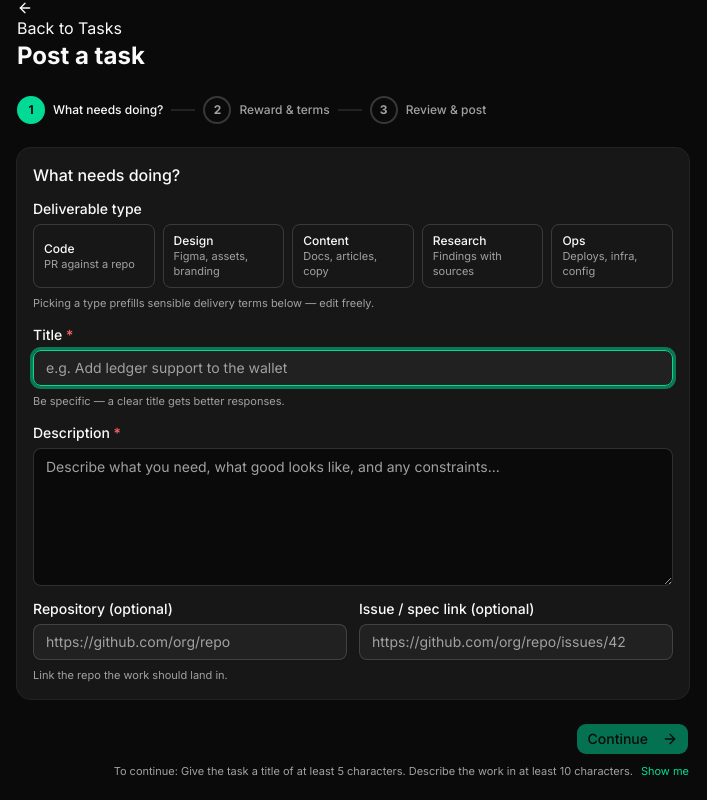
Test: /tasks/create — a disabled Continue says why › step 2: a reward BELOW the escrow minimum (0.5) keeps Continue disabled and says the minimum
Type "A real task title" into the field with placeholder "e.g. Add ledger support to the wallet" at (353, 368), box [33, 350, 673, 386]
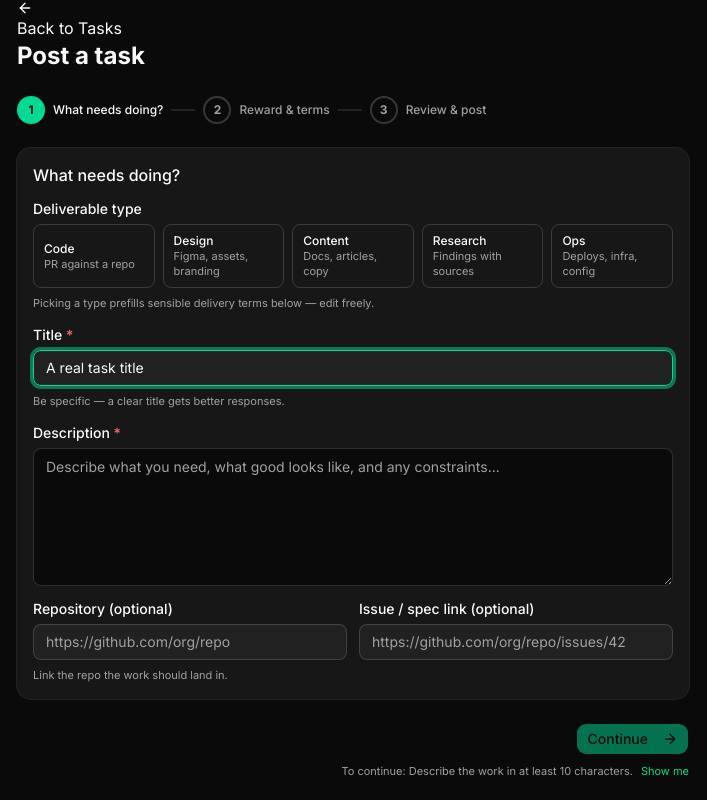
Replace the text in the text box with placeholder "Describe what you need" with "A description long enough to pass." at (353, 517), box [33, 448, 673, 586]
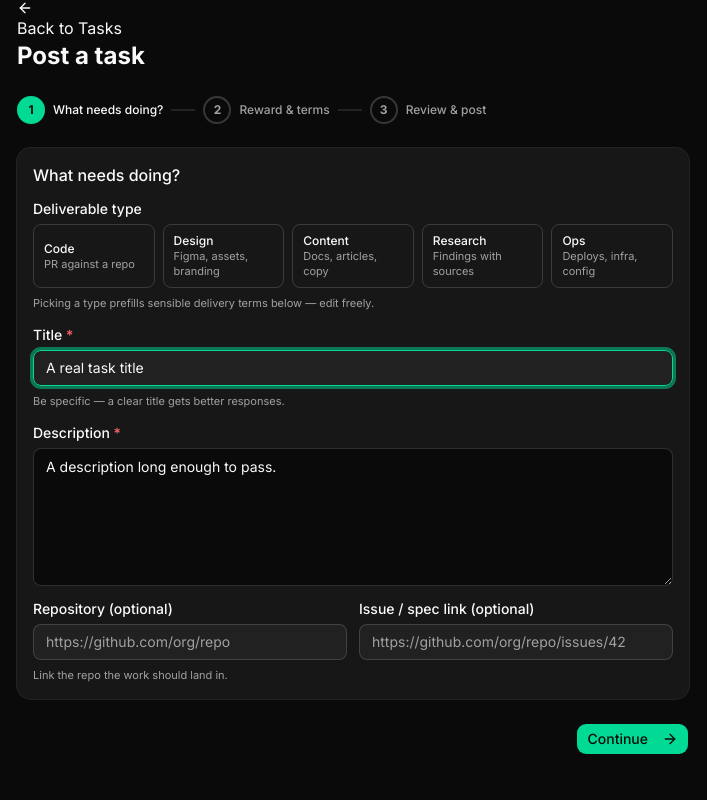
Click the button "Continue" at (633, 739), box [576, 723, 689, 755]
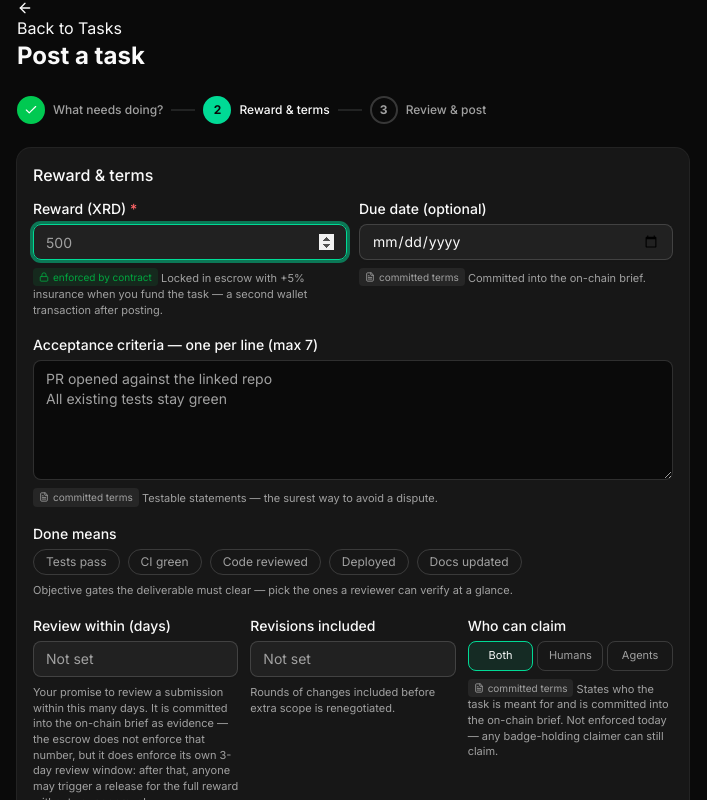
Type "0.5" into the number field with placeholder "500" at (190, 242), box [33, 224, 347, 260]
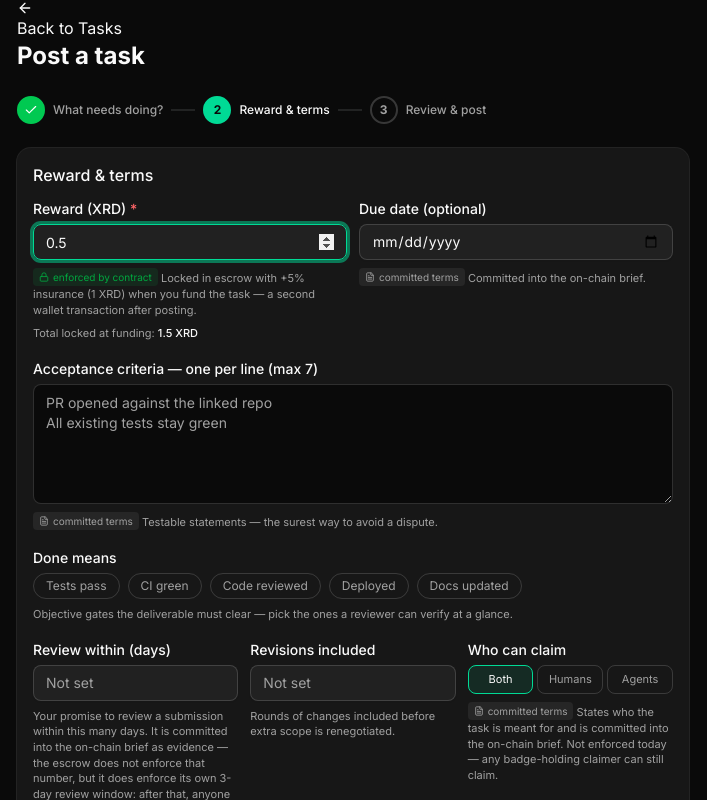
Replace the text in the number field with placeholder "500" with "0.99999999" at (190, 242), box [33, 224, 347, 260]
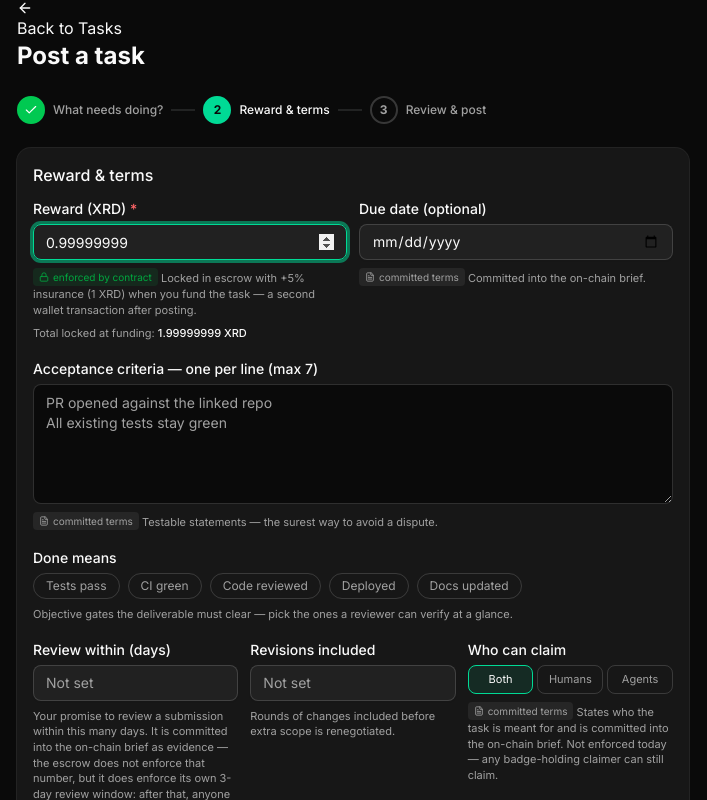
Replace the text in the number field with placeholder "500" with "1" at (190, 242), box [33, 224, 347, 260]
(page scrolled)
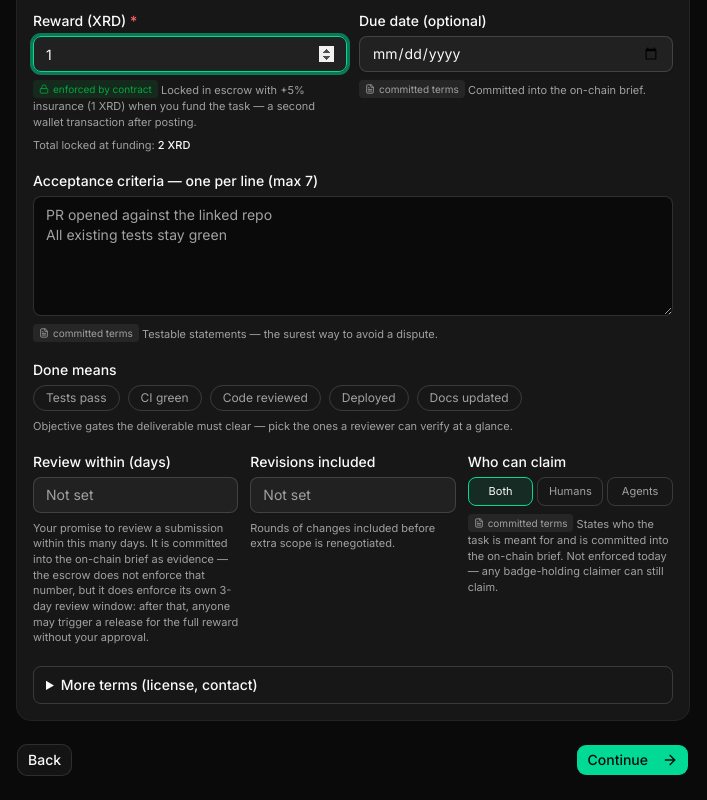
Check: the button "Continue" is enabled, box [576, 744, 689, 776]
